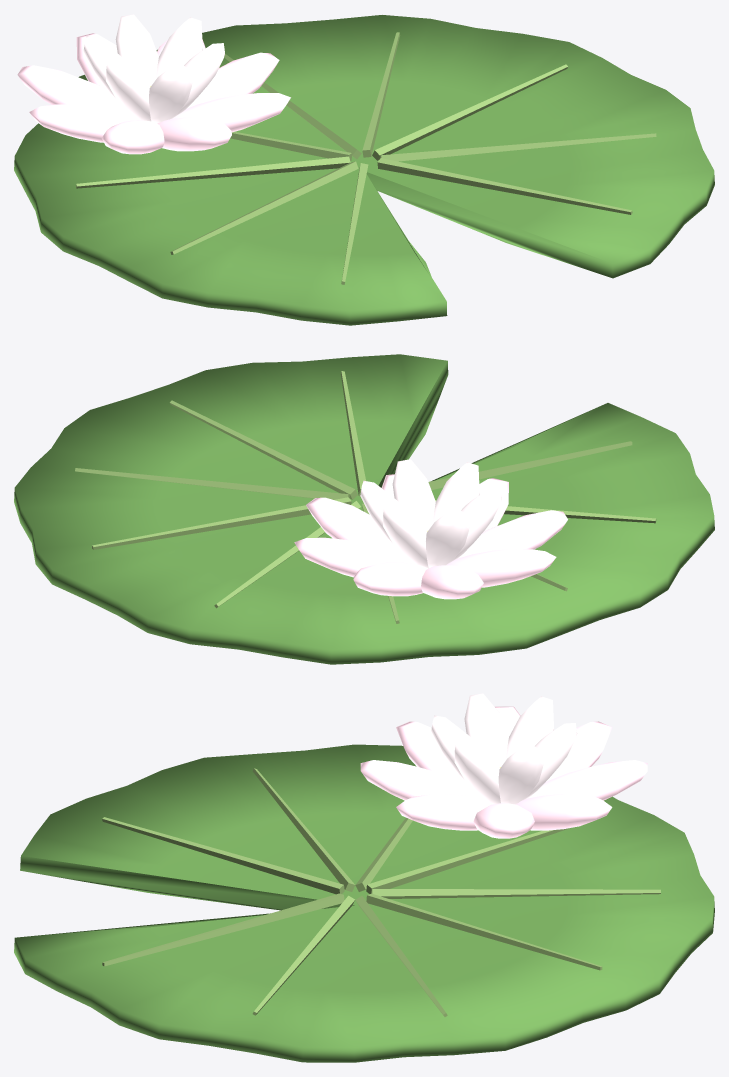
File: lilypad.glb
3 views of the same model, one above another, from view 1: azimuth 30°, elevation 25°; view 2: azimuth 150°, elevation 25°; view 3: azimuth 270°, elevation 25° (orthographic). The views are drawn at different scales.
Parts seen in each view (by area): view 1: lilypad; view 2: lilypad; view 3: lilypad.
Boxes of the visible parts, x1,y1,x2,y2 form: lilypad: [14, 14, 714, 325]; lilypad: [14, 354, 714, 664]; lilypad: [14, 693, 714, 1062].
Size of the model in its own units: 0.8708 by 0.1717 by 0.8498.
